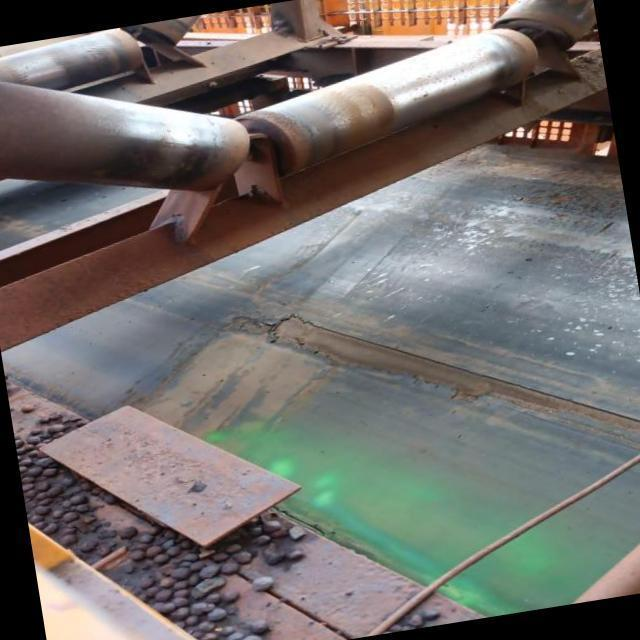Tear: (223, 307, 640, 449)
